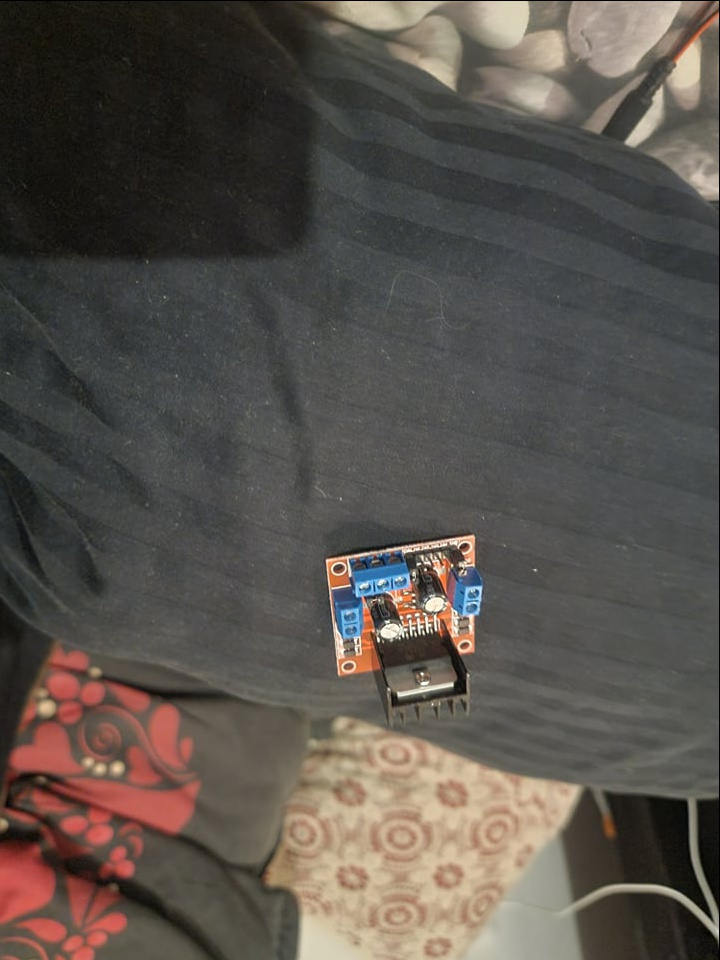MOTOR: (321, 531, 484, 726)
